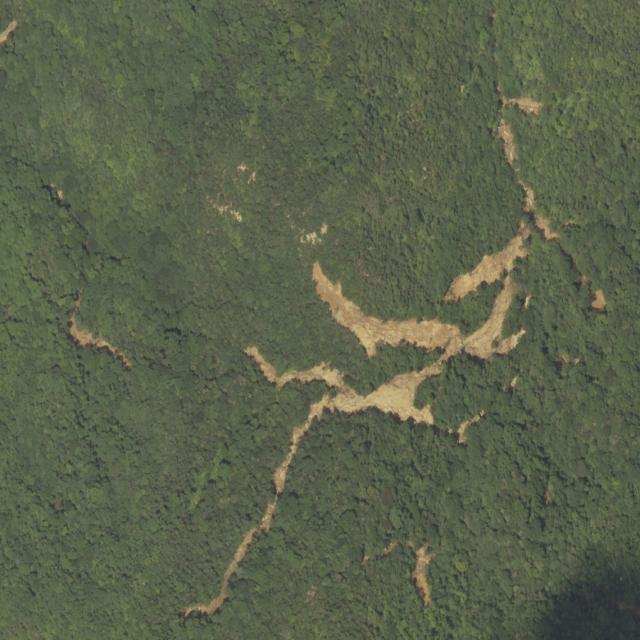landslide: (246, 221, 530, 493), (180, 497, 276, 618), (67, 294, 130, 369), (519, 177, 560, 241), (497, 118, 518, 164)
